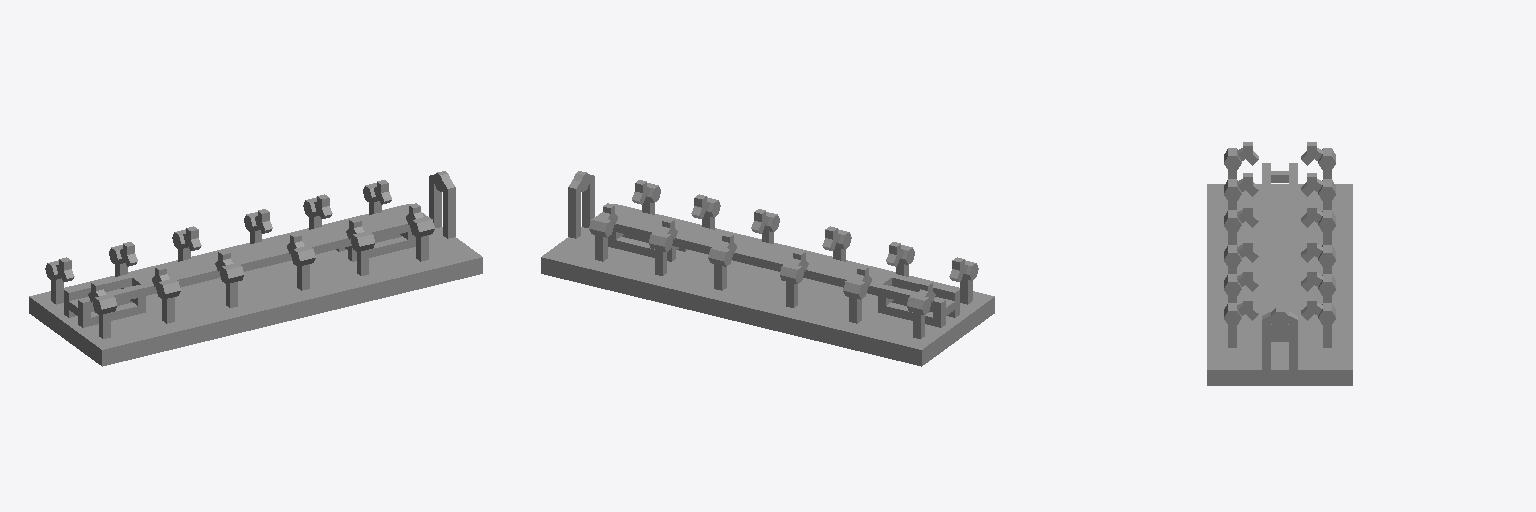
The model's file is ThreeByOneMissileCart.obj.
The picture shows the model from 3 angles: view 1: azimuth 30°, elevation 25°; view 2: azimuth 150°, elevation 25°; view 3: azimuth 270°, elevation 25°; orthographic projection.
Visible parts, largest first — view 1: base, Group_002, Group_003, Group_021, Group_013, Group_007.001, Group_007.002, Group_007, Group_017, Group_004, Group_008.002, Group_025 (+1 smaller); view 2: base, Group_002, Group_011, Group_021, Group_013, Group_007.001, Group_007.002, Group_007, Group_017, Group_024, Group_008.002, Group_026 (+1 smaller); view 3: base, Group_002, Group_017, Group_013, Group_021, Group_007.002, Group_007.001, Group_007.
Part boxes in pixels (bbox=[...]): base: bbox=[29, 204, 482, 366]; Group_002: bbox=[64, 208, 410, 310]; Group_003: bbox=[443, 180, 455, 238]; Group_021: bbox=[363, 183, 434, 237]; Group_013: bbox=[244, 212, 315, 266]; Group_007.001: bbox=[109, 245, 180, 299]; Group_007.002: bbox=[45, 260, 116, 314]; Group_007: bbox=[172, 229, 243, 283]; Group_017: bbox=[303, 197, 374, 251]; Group_004: bbox=[348, 237, 415, 261]; Group_008.002: bbox=[51, 278, 110, 338]; Group_025: bbox=[78, 303, 145, 327]; base: bbox=[541, 204, 994, 366]; Group_002: bbox=[613, 208, 959, 310]; Group_011: bbox=[568, 180, 580, 238]; Group_021: bbox=[589, 183, 660, 237]; Group_013: bbox=[708, 212, 779, 266]; Group_007.001: bbox=[843, 245, 914, 299]; Group_007.002: bbox=[907, 260, 978, 314]; Group_007: bbox=[780, 229, 851, 283]; Group_017: bbox=[649, 197, 720, 251]; Group_024: bbox=[608, 237, 675, 261]; Group_008.002: bbox=[913, 278, 972, 338]; Group_026: bbox=[878, 303, 945, 327]; base: bbox=[1207, 184, 1352, 385]; Group_002: bbox=[1262, 163, 1297, 333]; Group_017: bbox=[1224, 274, 1335, 295]; Group_013: bbox=[1224, 245, 1335, 266]; Group_021: bbox=[1224, 303, 1335, 324]; Group_007.002: bbox=[1224, 148, 1335, 169]; Group_007.001: bbox=[1224, 179, 1335, 200]; Group_007: bbox=[1224, 210, 1335, 231].
Bounding box in the file's own units: 3 × 0.5625 × 1.